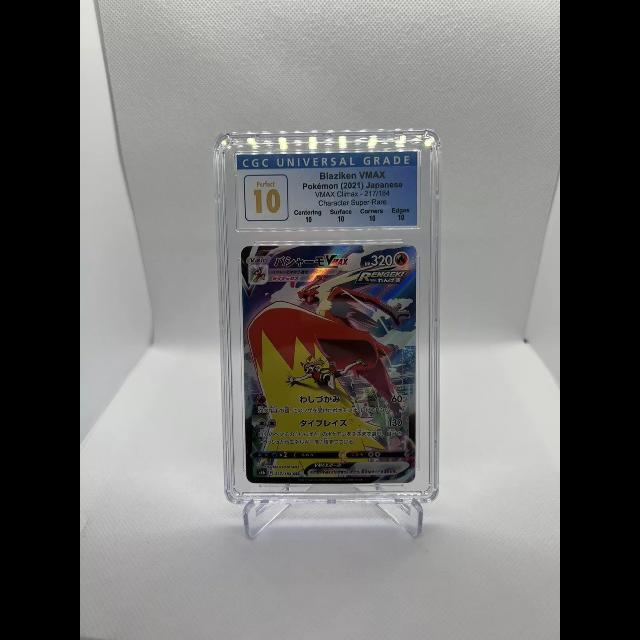card: (241, 241, 417, 484)
cgc_label_old: (235, 151, 418, 229)
cgc_slab: (213, 127, 443, 504)
